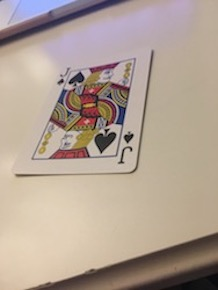JackOfSpades: (12, 45, 157, 181)
